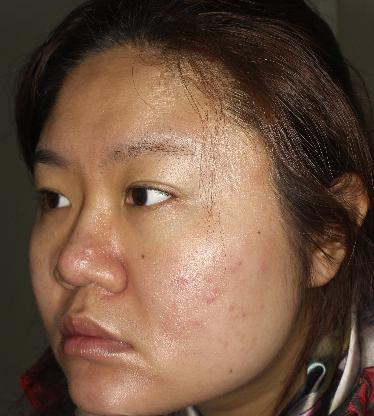Blackheads: (133, 248, 153, 269), (250, 223, 272, 239), (224, 363, 237, 377)
Nodules: (80, 239, 103, 261)
acne scar: (235, 308, 251, 323), (232, 255, 246, 272)
